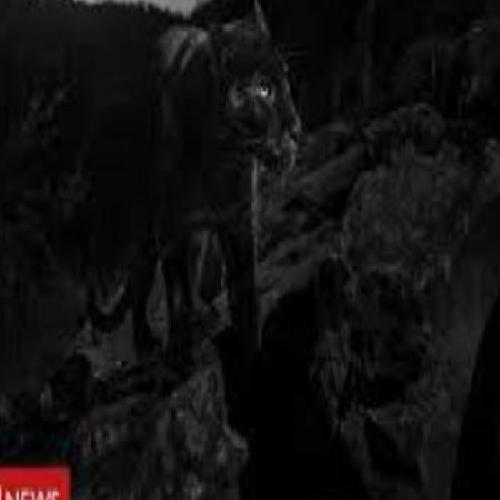panther-endangered: (74, 20, 295, 330)
